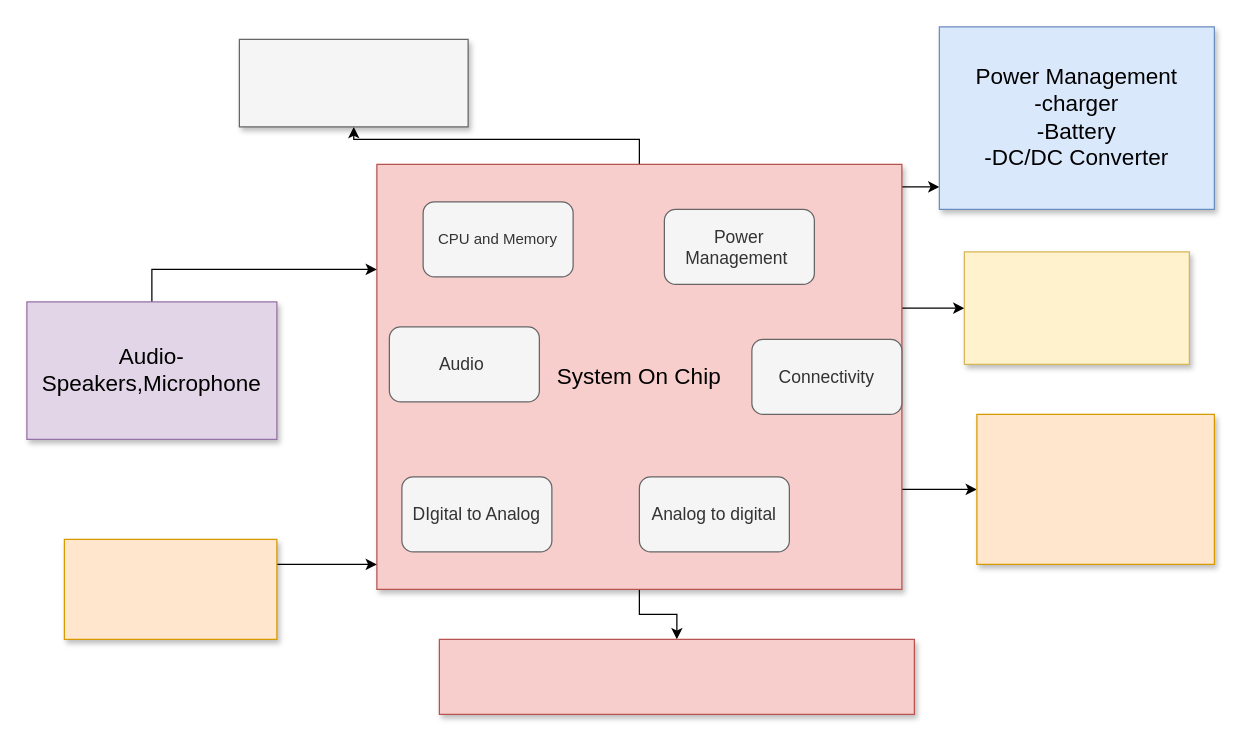
Image size: 1244x745. Some labels were removed from this diagram. Each missing label, with the centre of its shape:
Display-Capacitive Touchscreen: point 1096,490
Motion Sensors-Accelerometer,Magnetometer,Gyroscope: point 677,678
Output Drive-Vibration Motors,LED: point 171,590
Temperator,Pressure Sensors: point 354,84
Wireless Connectivity-Bluetooth: point 1077,309
